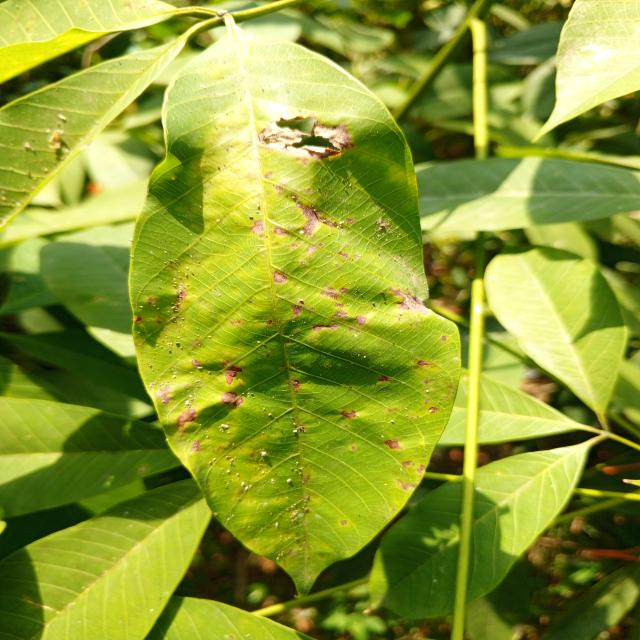Colletotrichum: (341, 520, 347, 525)
Leaf-Blight: (255, 112, 353, 160)
